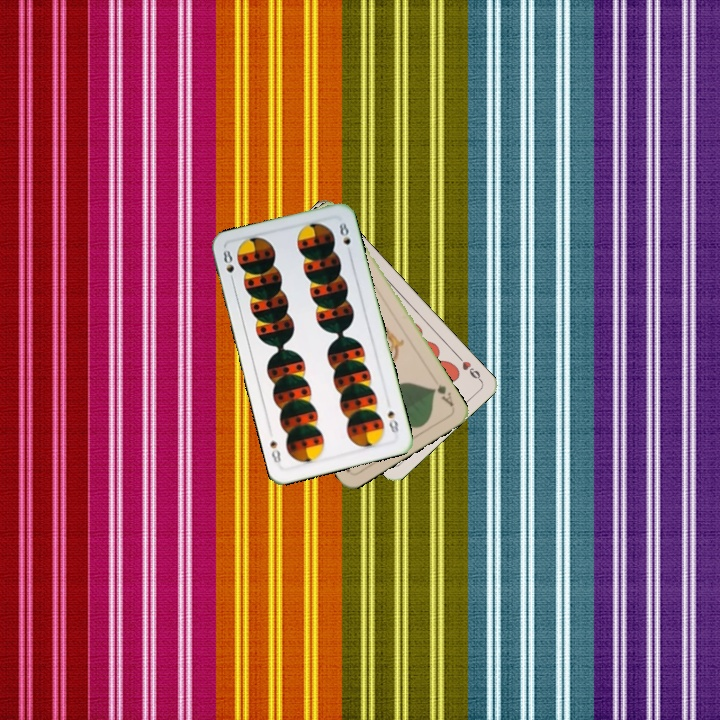GA: (429, 381, 456, 409)
H9: (452, 351, 484, 384)
S8: (219, 246, 237, 286), (383, 407, 402, 438)
